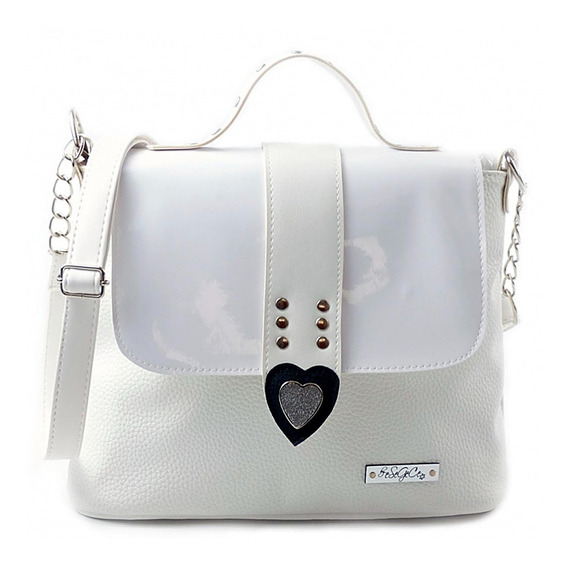cartera: (42, 50, 528, 527)
